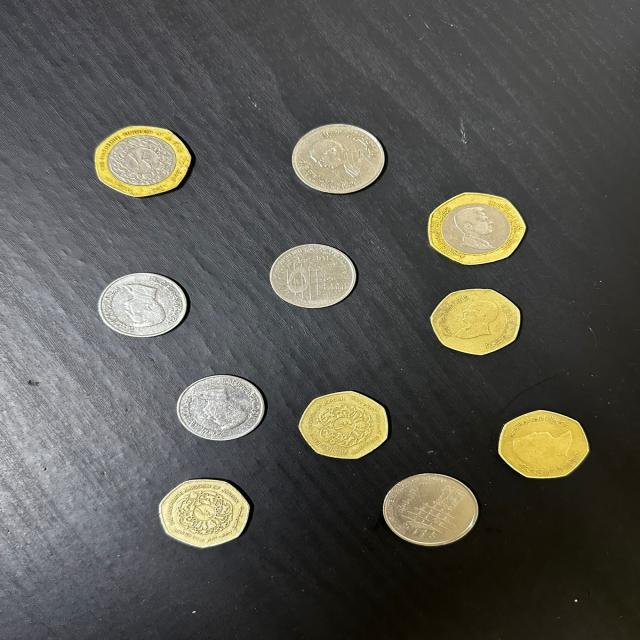10-coins: (380, 474, 482, 548), (286, 122, 386, 195)
25-coins: (153, 476, 254, 550), (492, 409, 591, 480), (430, 286, 523, 358), (298, 389, 392, 459)
5-coins: (172, 374, 271, 441), (264, 242, 360, 310), (96, 272, 190, 338)
50-coins: (89, 126, 196, 202), (424, 191, 526, 266)
